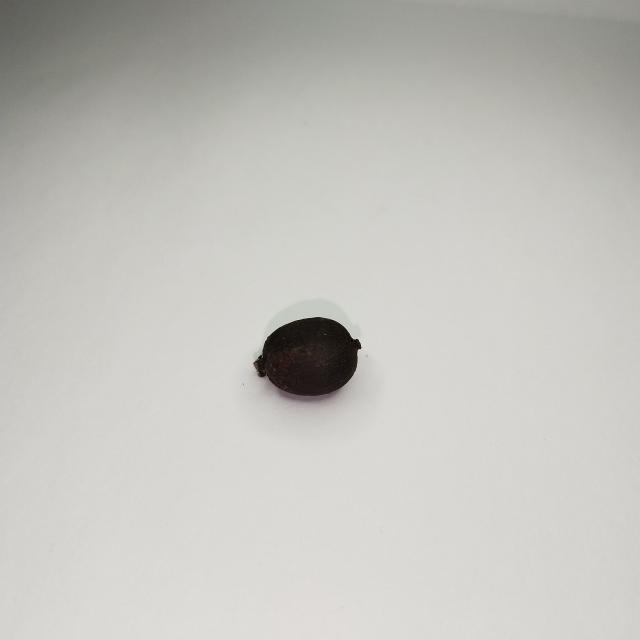Danado: (254, 317, 361, 392)
